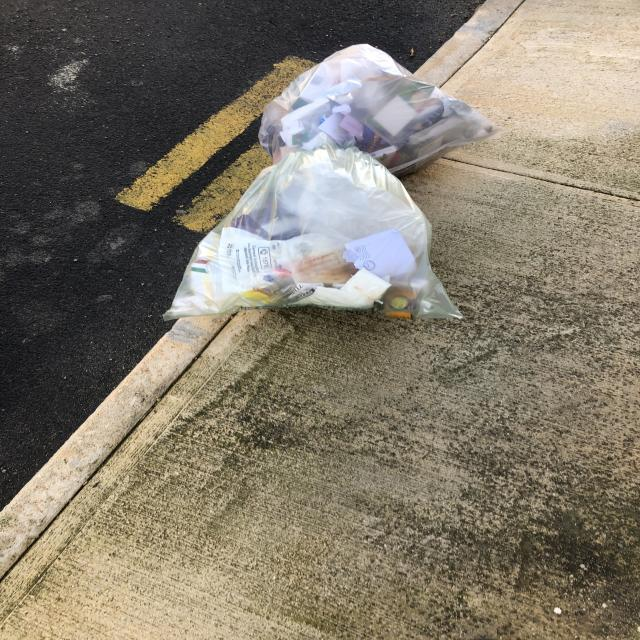Organic Waste -White Bag-: (155, 142, 483, 336), (250, 35, 496, 173)
